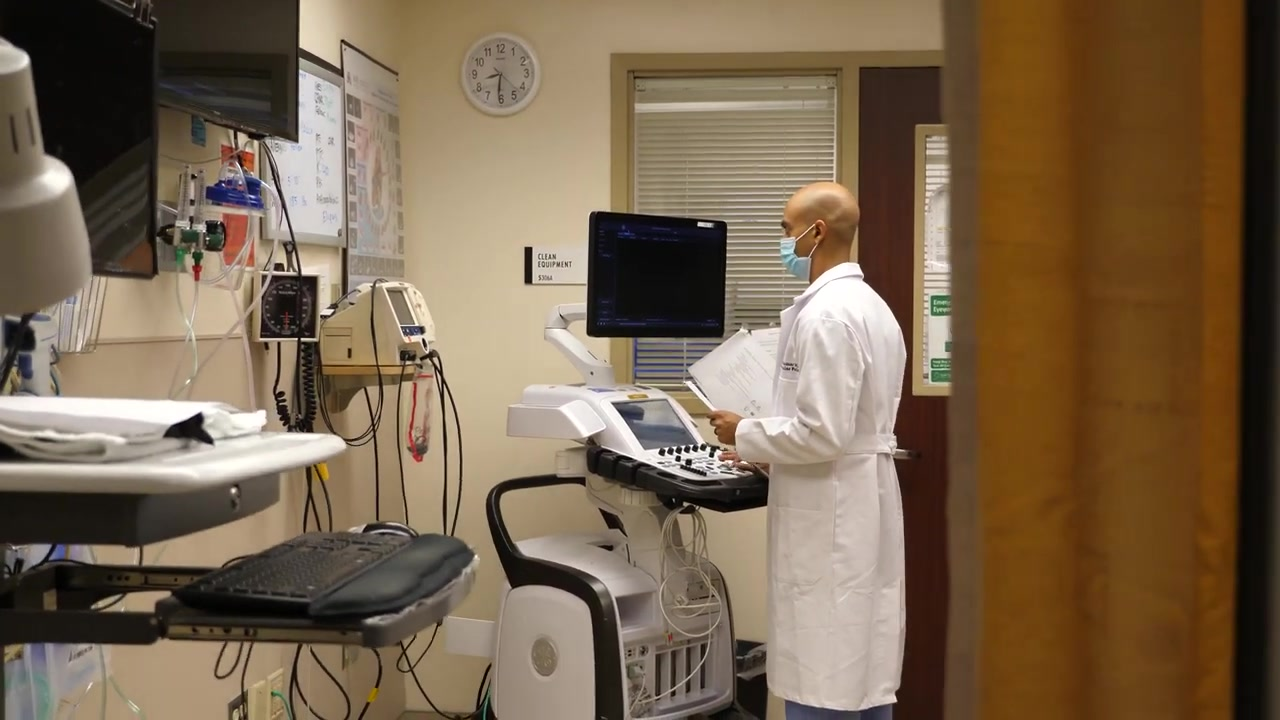TV: (159, 1, 302, 142)
bedside_monitor: (585, 211, 727, 339)
computer: (1, 1, 158, 278)
countertop: (1, 435, 348, 495)
keyboard: (170, 531, 410, 619)
mouse: (360, 522, 419, 537)
staff: (708, 181, 906, 720)
